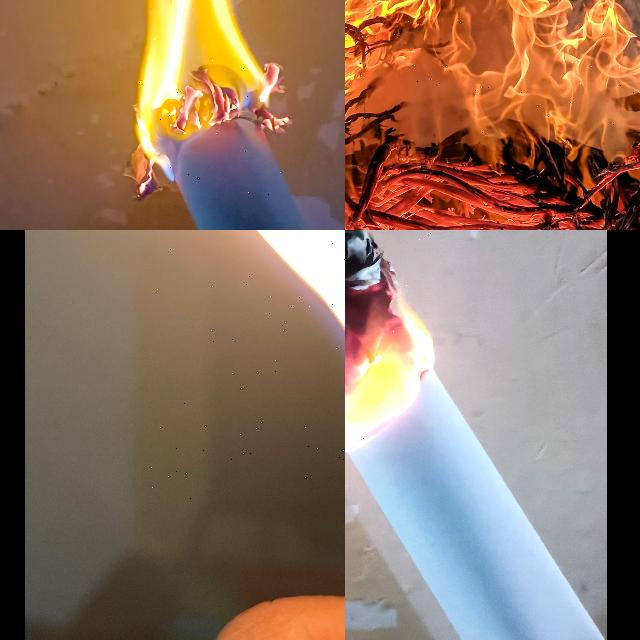fire: (345, 0, 640, 152), (128, 0, 290, 198), (345, 230, 432, 450)
